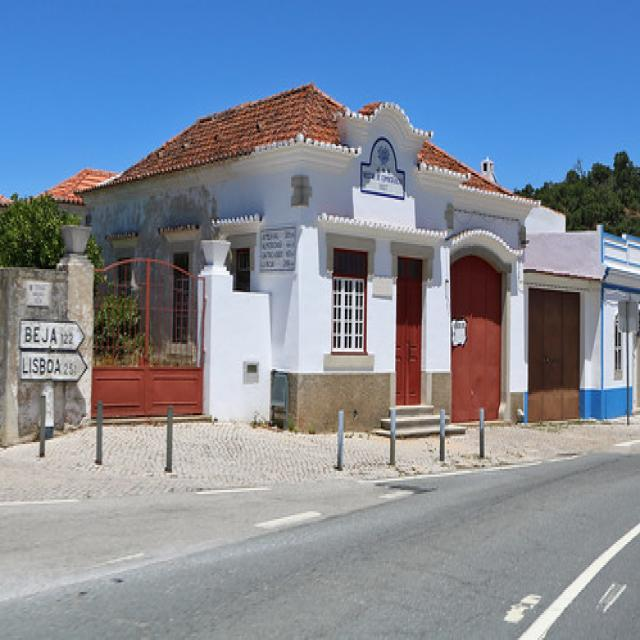building: (73, 77, 543, 430)
